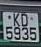3: (22, 27, 30, 42)
5: (5, 25, 14, 42), (29, 26, 37, 42)
9: (13, 26, 22, 42)
D: (21, 13, 29, 28)
K: (13, 13, 21, 28)
